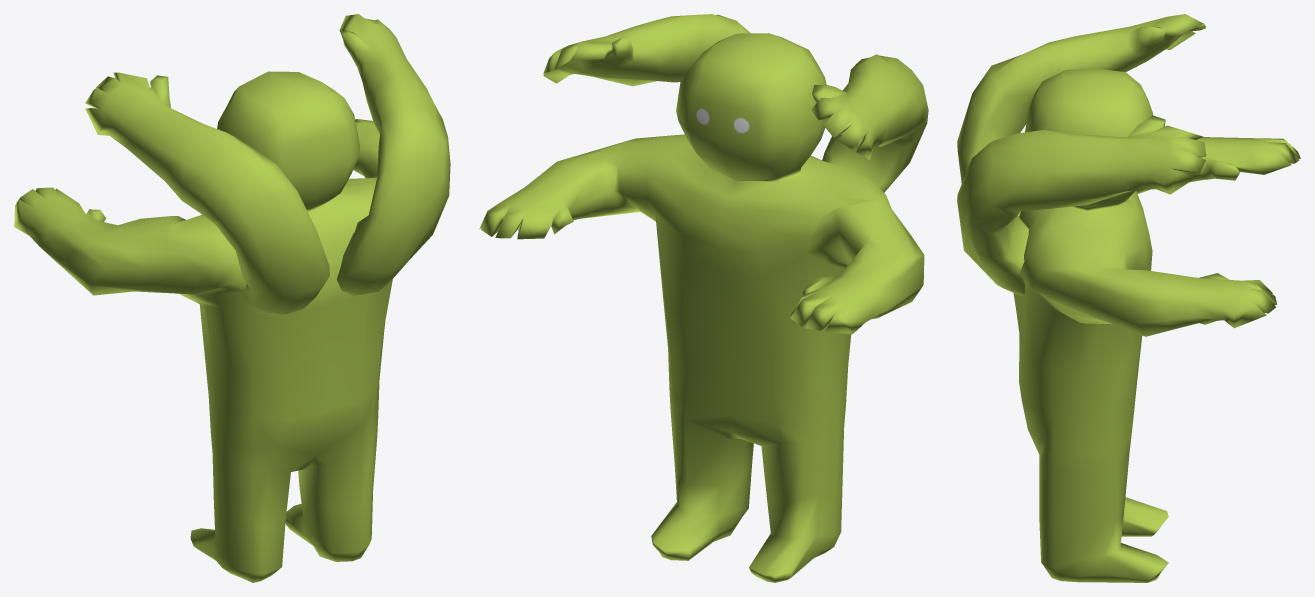
Rendered from Genepool_Enemy_Tank.fbx.
The picture shows the model from 3 angles, left to right: view 1: azimuth 30°, elevation 25°; view 2: azimuth 150°, elevation 25°; view 3: azimuth 270°, elevation 25°; orthographic projection. The views are drawn at different scales.
Visible parts, largest first — view 1: polySurface15; view 2: polySurface15; view 3: polySurface15.
Part boxes in pixels (box(x1,y1,x2,y2)): polySurface15: box(14, 14, 450, 582); polySurface15: box(479, 14, 928, 582); polySurface15: box(957, 14, 1300, 582).
Size of the model in its own units: 31.88 by 39.79 by 25.73.
